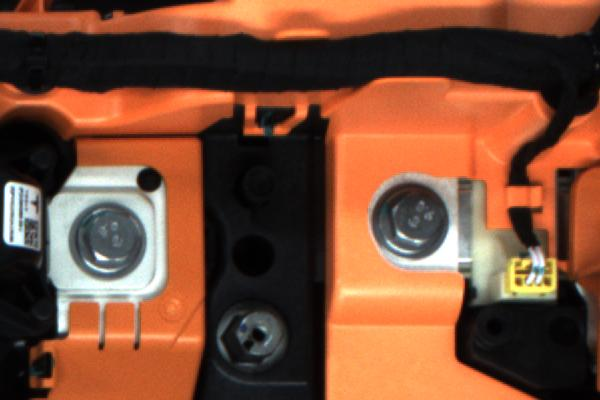nut_b: (365, 176, 449, 267), (59, 198, 150, 279)
